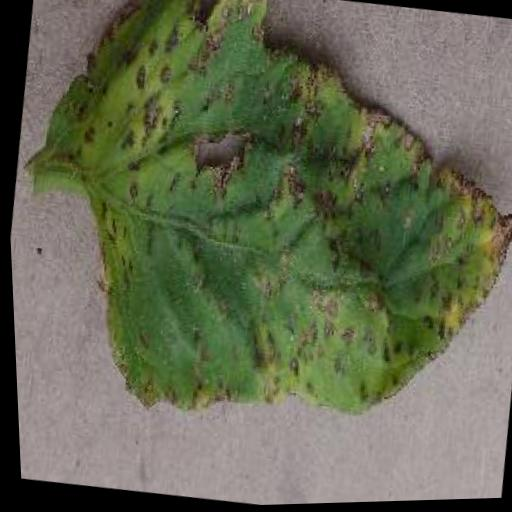Bacterial Spot: (2, 0, 512, 465)
